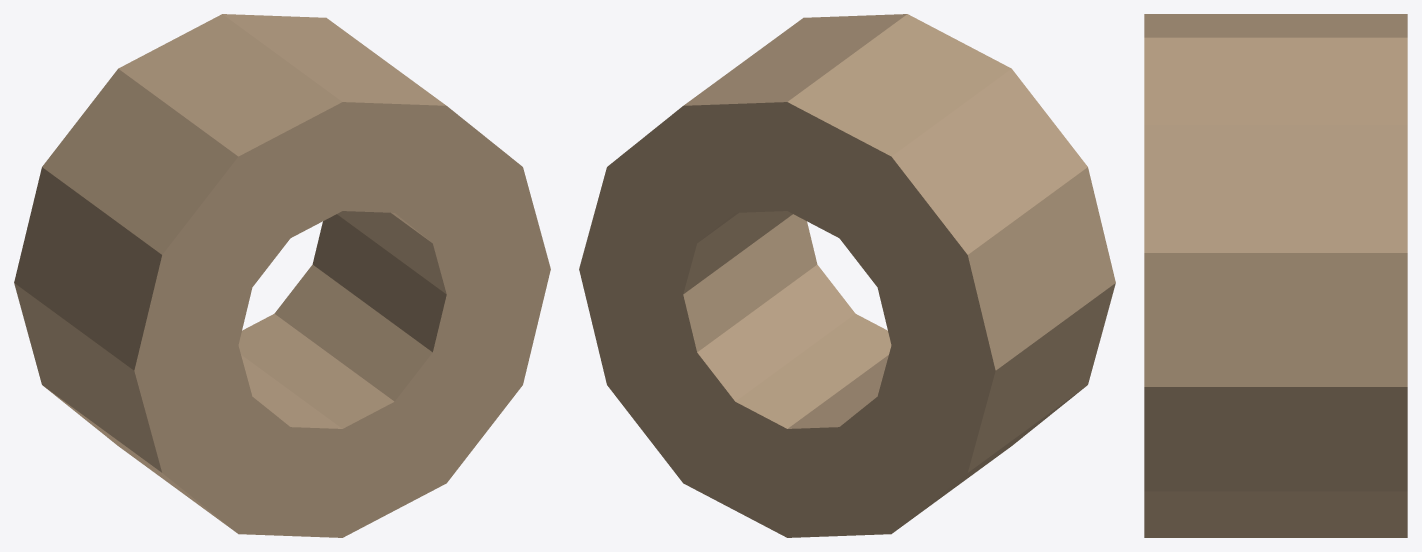
Rendered from wheel-r4.glb.
3 renders of one model, left to right at view 1: azimuth 30°, elevation 25°; view 2: azimuth 150°, elevation 25°; view 3: azimuth 270°, elevation 25°, orthographic. The views are drawn at different scales.
Visible parts, largest first — view 1: Mesh_Mesh_head_geo.001_lambert2SG.001; view 2: Mesh_Mesh_head_geo.001_lambert2SG.001; view 3: Mesh_Mesh_head_geo.001_lambert2SG.001.
Boxes of the visible parts, x1=… form: Mesh_Mesh_head_geo.001_lambert2SG.001: x1=14, y1=14, x2=550, y2=537; Mesh_Mesh_head_geo.001_lambert2SG.001: x1=579, y1=14, x2=1115, y2=537; Mesh_Mesh_head_geo.001_lambert2SG.001: x1=1144, y1=14, x2=1407, y2=537.
Bounding box in the file's own units: 4 × 4 × 2.
